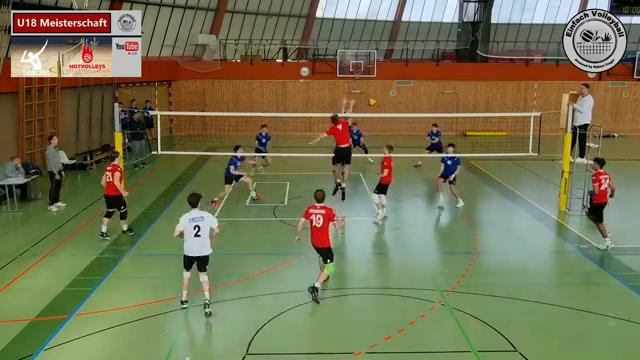attacco: (314, 101, 361, 201)
